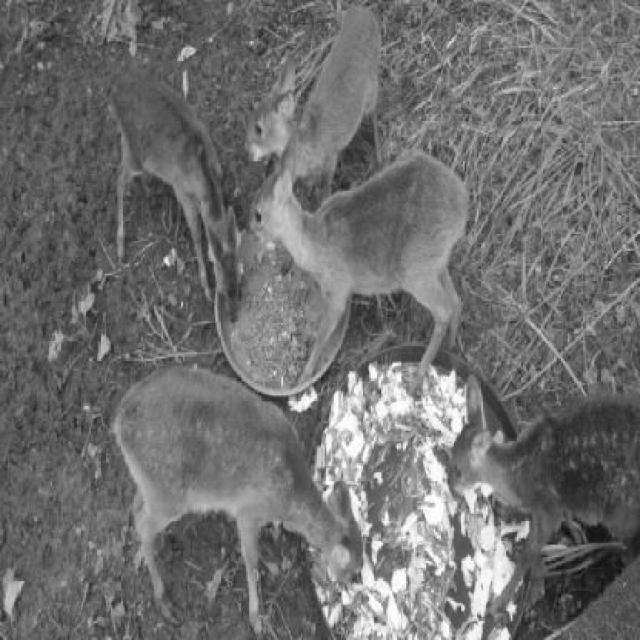Deer: (104, 370, 376, 638), (248, 148, 482, 392), (443, 384, 639, 638), (90, 75, 244, 349), (243, 13, 397, 164)
